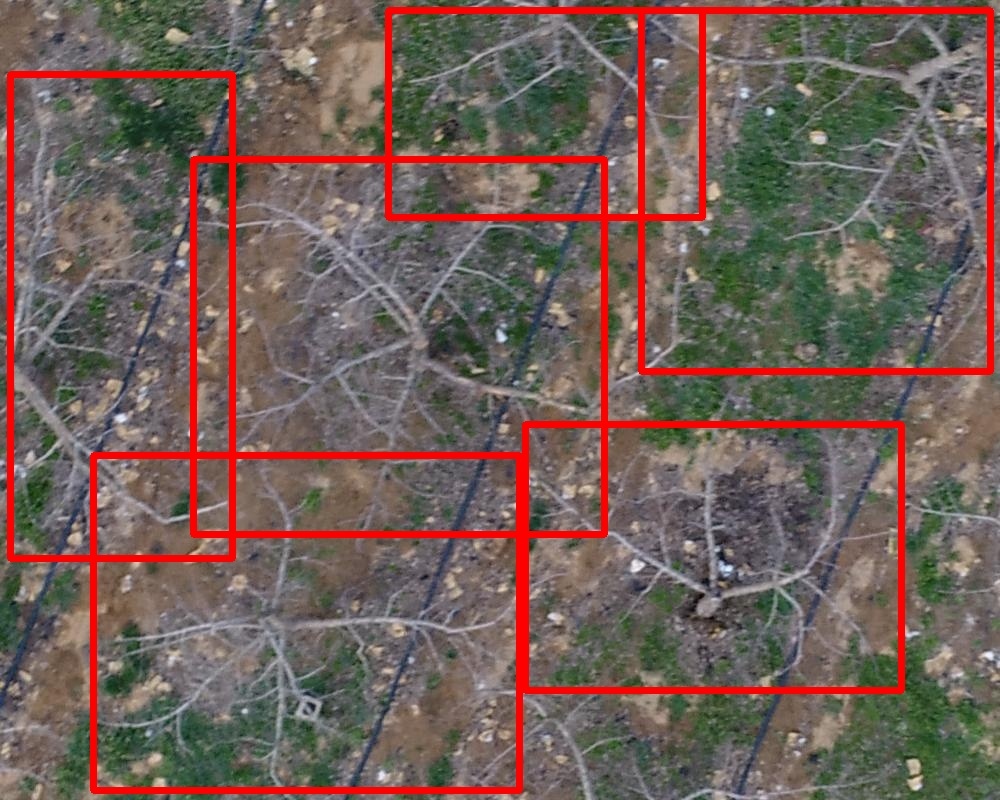apple: (193, 159, 604, 534), (93, 455, 519, 790), (641, 10, 990, 371), (10, 74, 232, 558), (525, 424, 901, 690), (388, 10, 702, 217)
